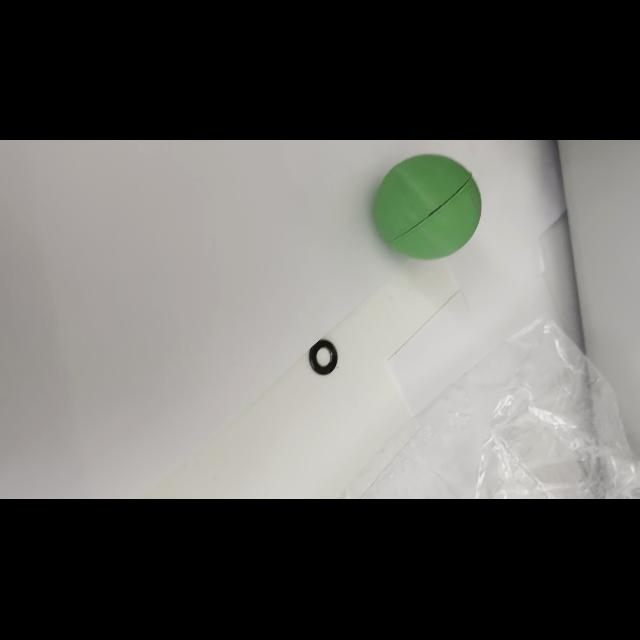objects: (369, 152, 485, 264)
